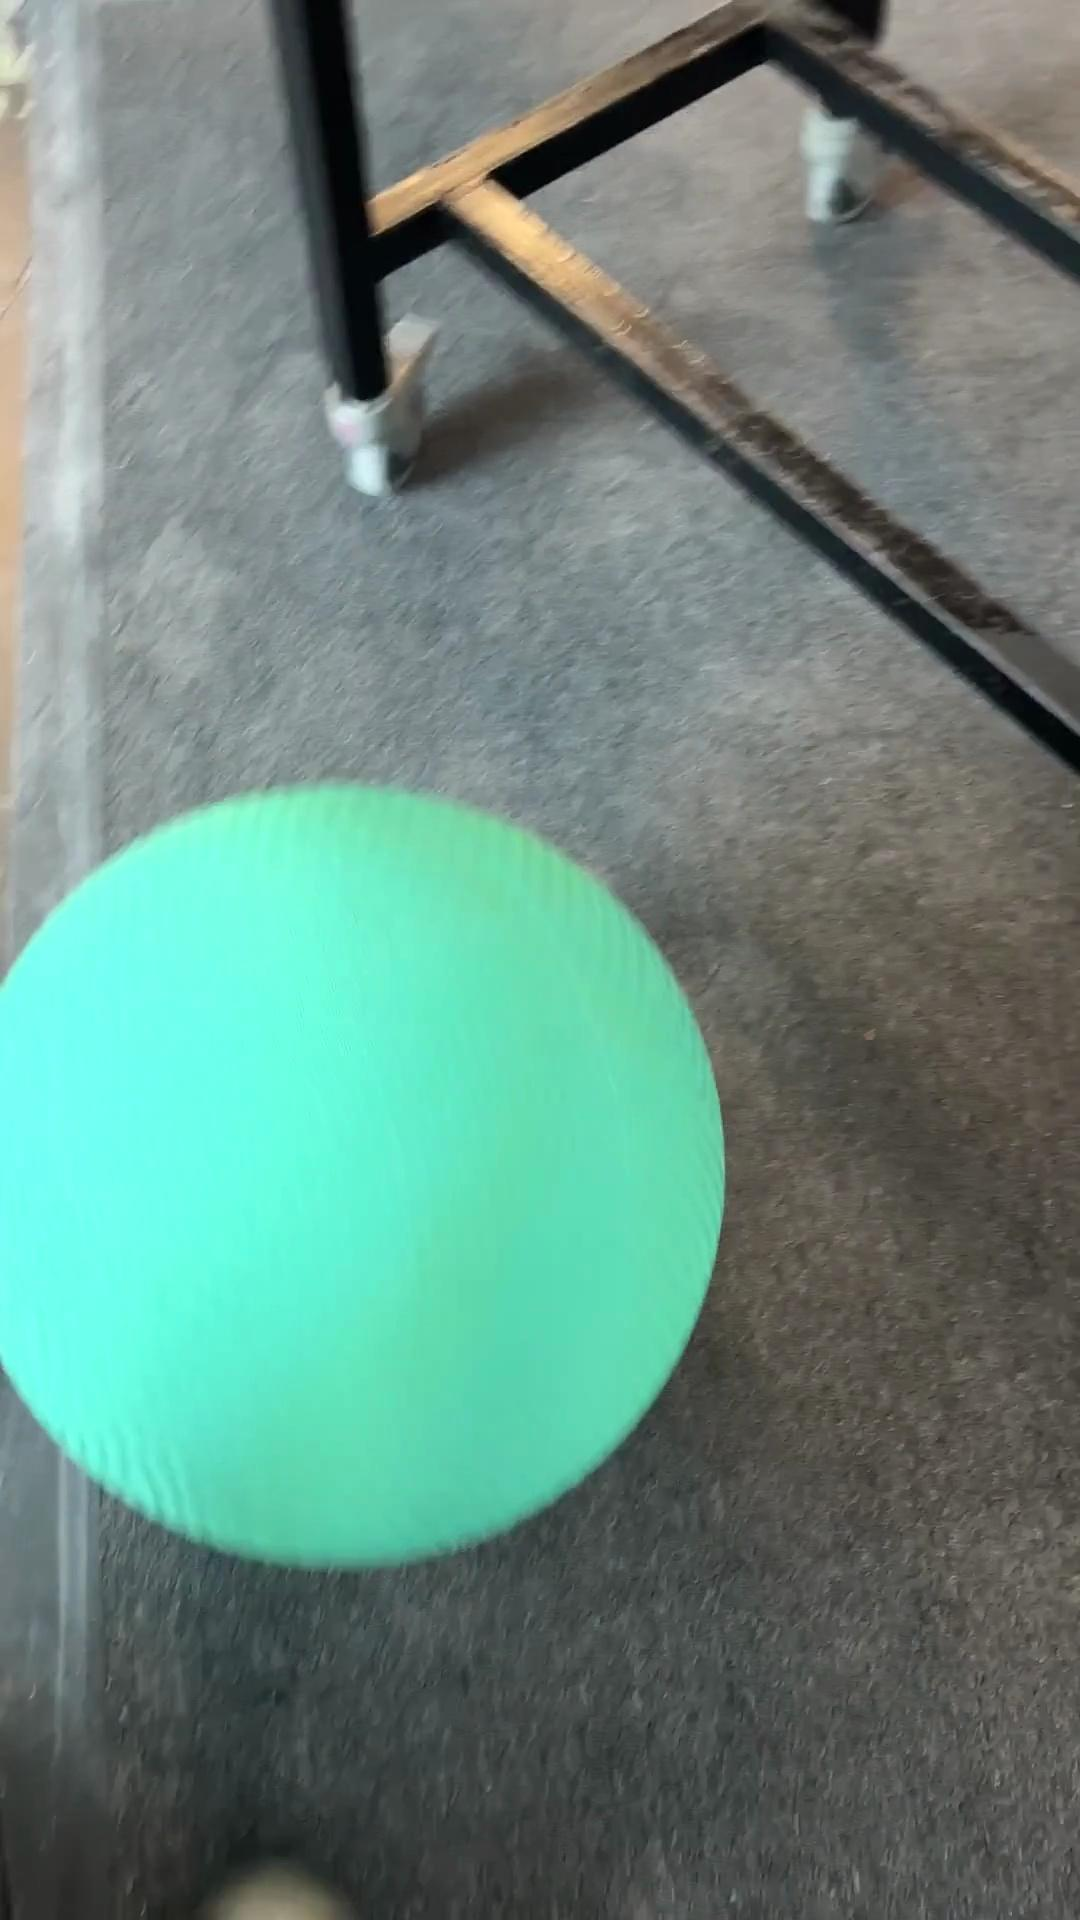ALGAE: (1, 778, 728, 1571)
